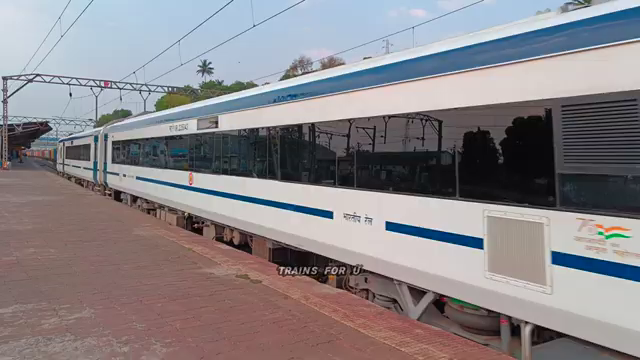Boogie: (166, 122, 192, 134)
